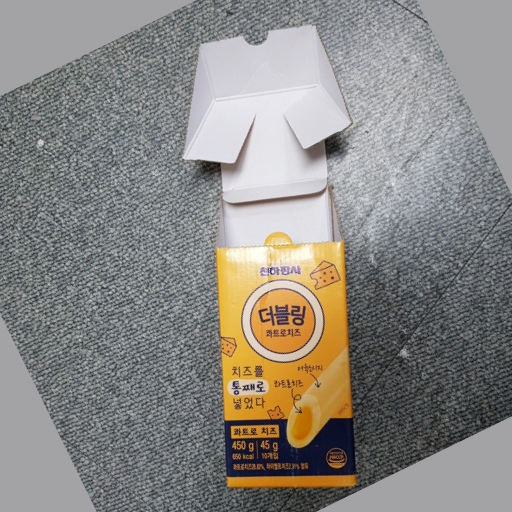Paper_0: (179, 22, 369, 498)
